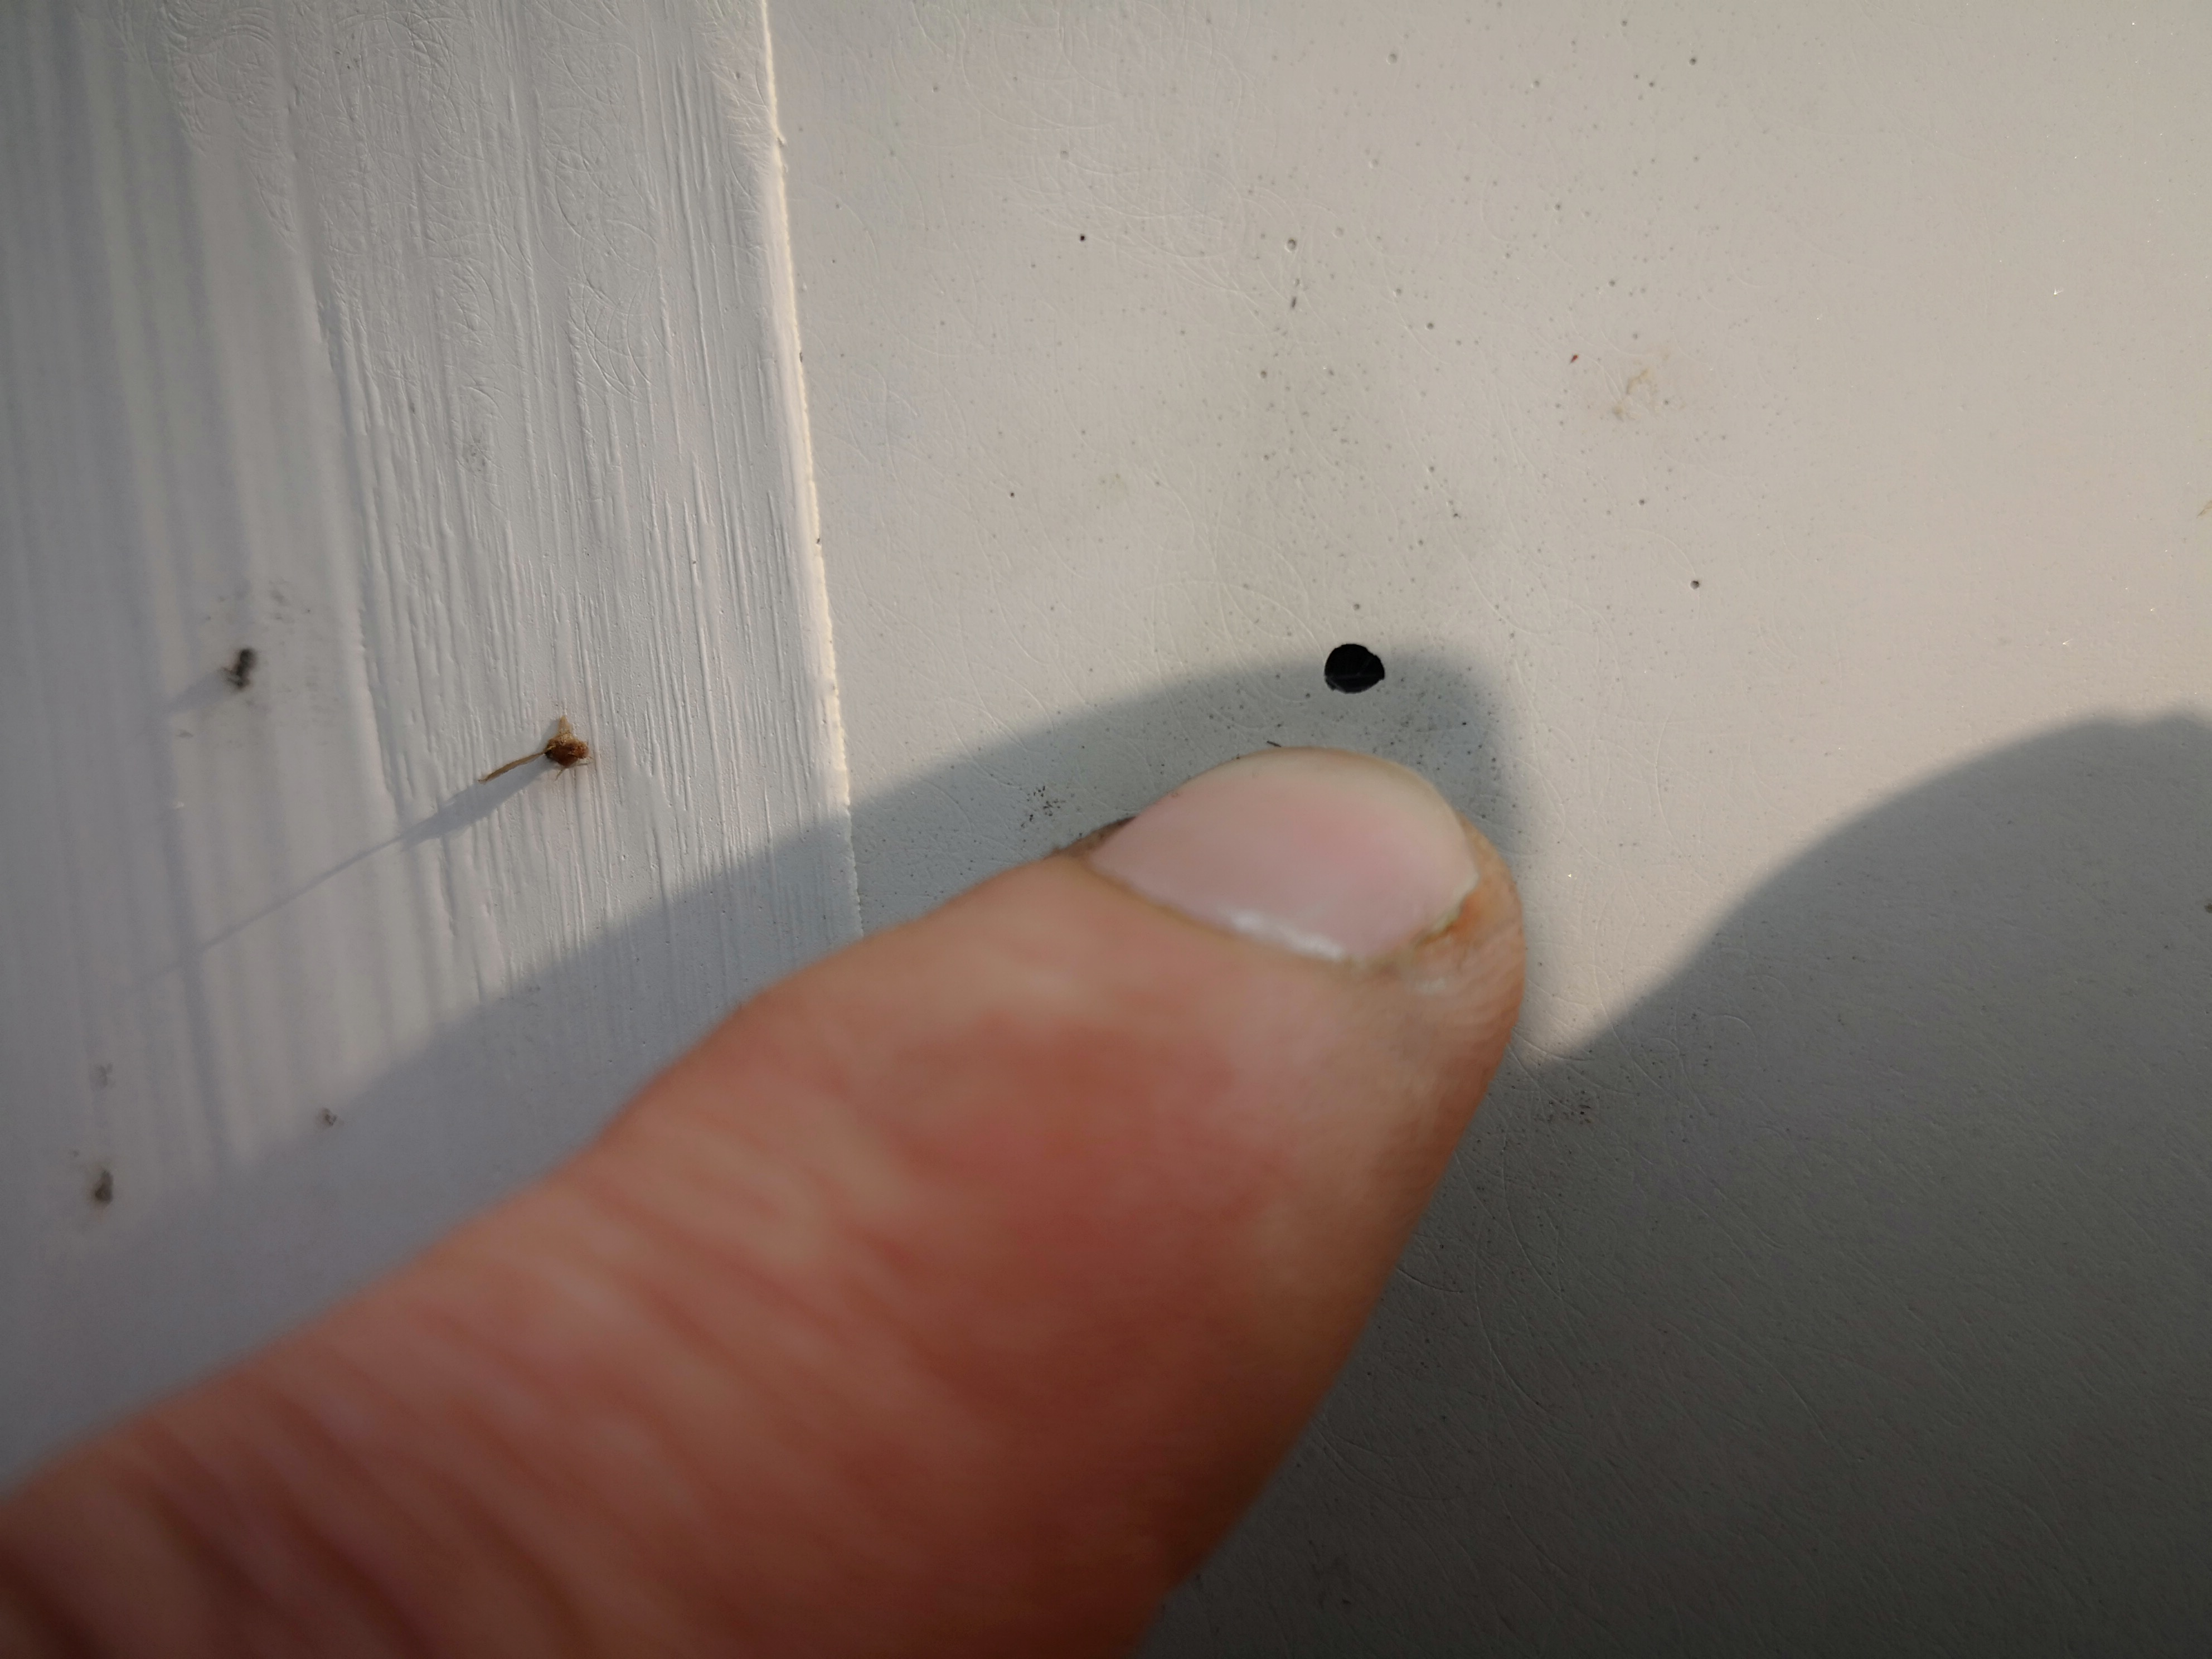Dirt: (523, 708, 601, 782)
SD: (1299, 629, 1418, 708)
